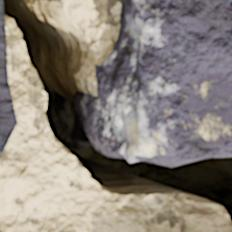brick: (97, 0, 231, 165), (0, 0, 16, 155)
crack: (2, 0, 231, 231)
